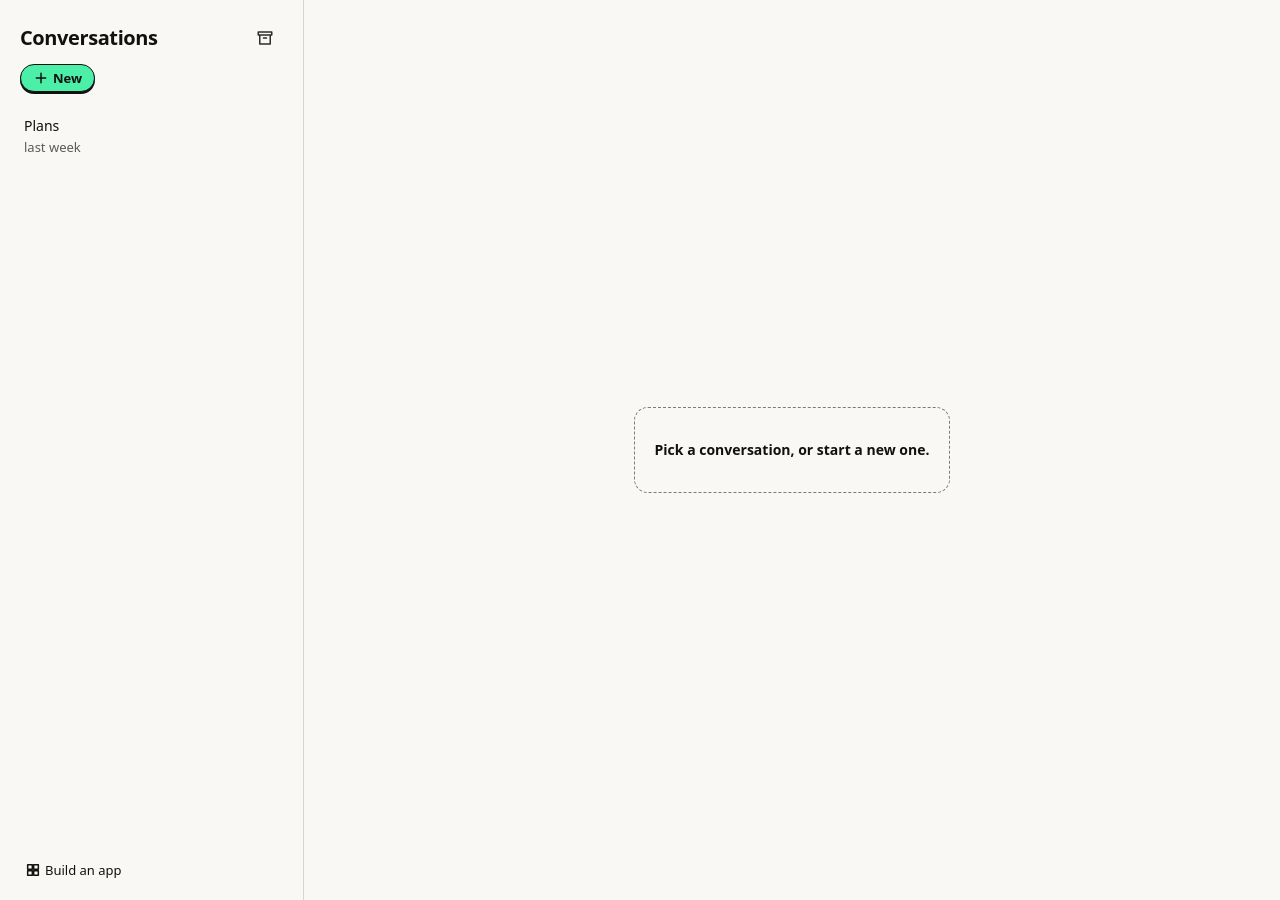
it: the list shows the archived conversations on request
Check: the link "Plans" is shown, box [24, 116, 59, 135]
What coordinates should you click on to do the following:
click the button named "Show archived conversations"
I would click on:
 (265, 38)
Its box is [247, 20, 283, 56].
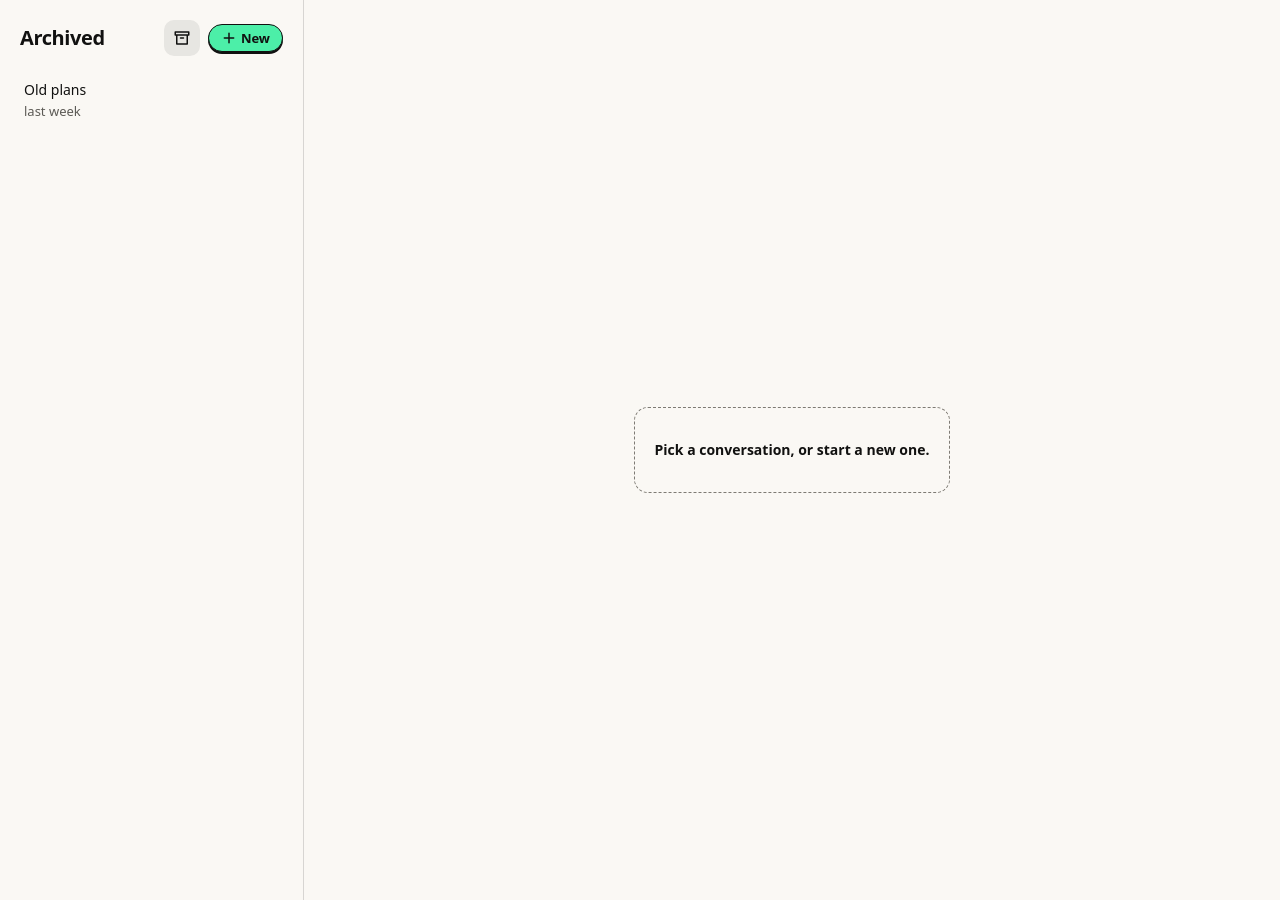
Check: the link "Old plans" is shown, box [24, 80, 86, 99]
Check: the heading reads "Archived", box [20, 24, 105, 51]
